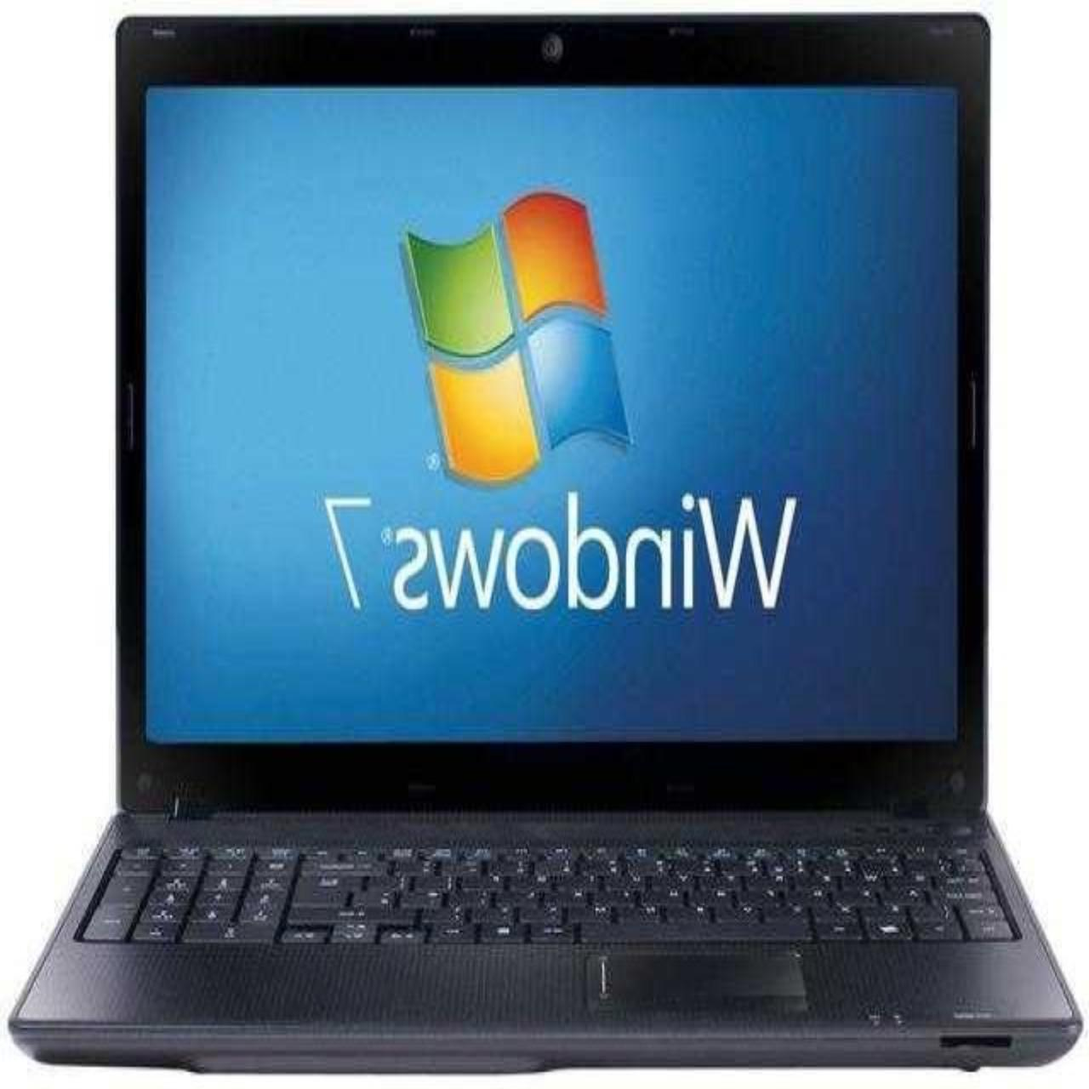laptop: (31, 16, 1024, 1069)
